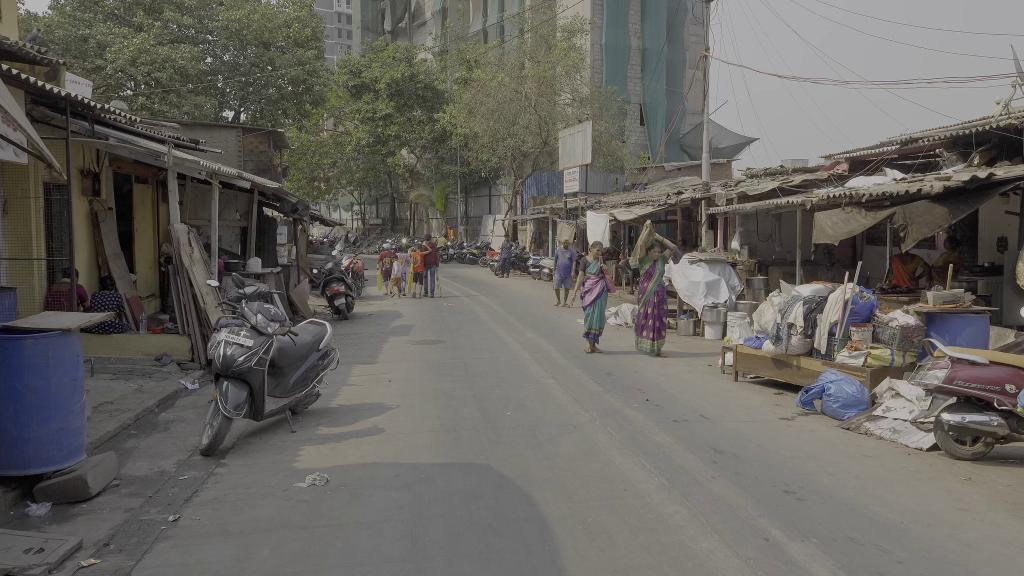garbage: (796, 368, 874, 425), (292, 468, 332, 491), (138, 309, 149, 335)
